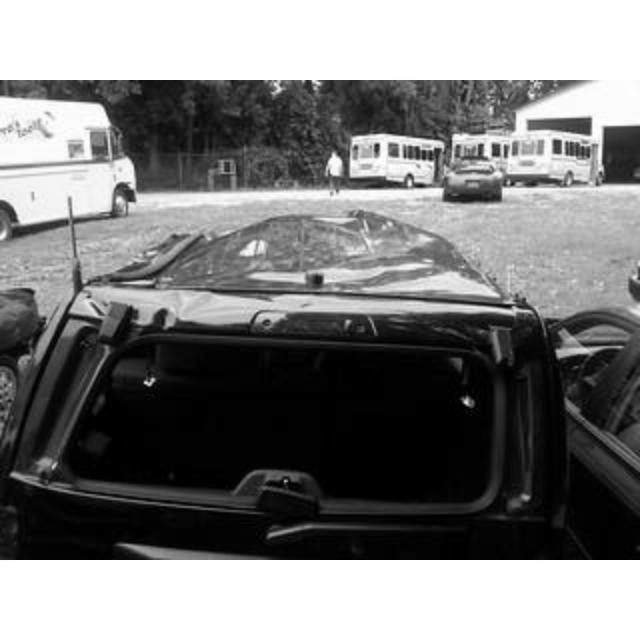Rear-windscreen-Damage: (88, 350, 540, 518)
roof-dent: (114, 200, 524, 340)
